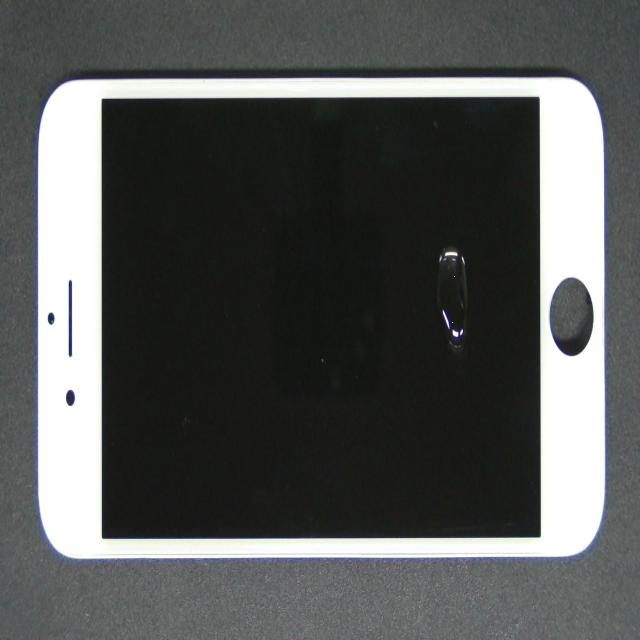oil: (238, 115, 640, 370)
